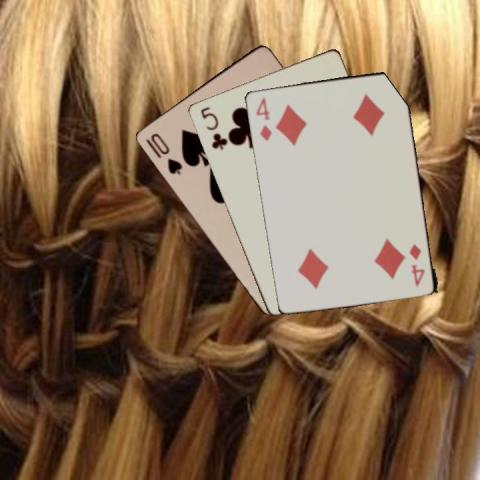10s: (147, 129, 183, 176)
4d: (252, 94, 272, 142), (406, 241, 426, 288)
5c: (197, 104, 227, 152)
